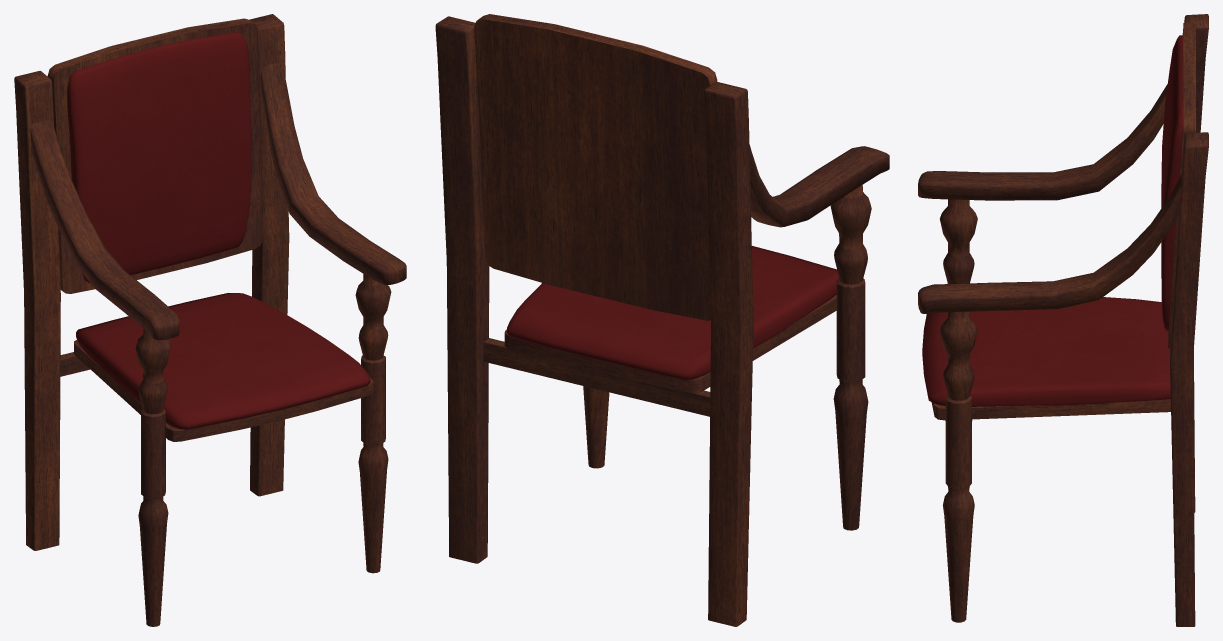
The model's file is SM_Chair_Wood_a_001.fbx.
The picture shows the model from 3 angles, left to right: view 1: azimuth 30°, elevation 25°; view 2: azimuth 150°, elevation 25°; view 3: azimuth 270°, elevation 25°; orthographic projection. The views are drawn at different scales.
Visible parts, largest first — view 1: SM_Chair_Wood_a_001; view 2: SM_Chair_Wood_a_001; view 3: SM_Chair_Wood_a_001.
Part boxes in pixels (x1,y1,x2,y2): SM_Chair_Wood_a_001: (14, 14, 406, 626); SM_Chair_Wood_a_001: (435, 14, 889, 626); SM_Chair_Wood_a_001: (918, 14, 1208, 626).
Bounding box in the file's own units: 64.44 × 113 × 59.96.
